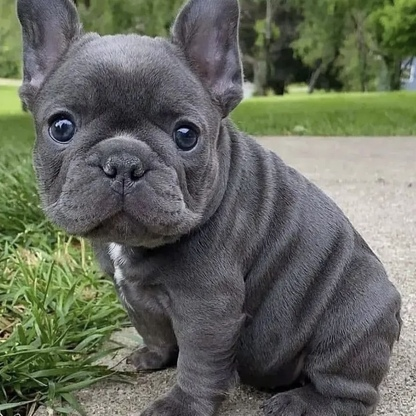bulldog: (13, 14, 286, 279)
